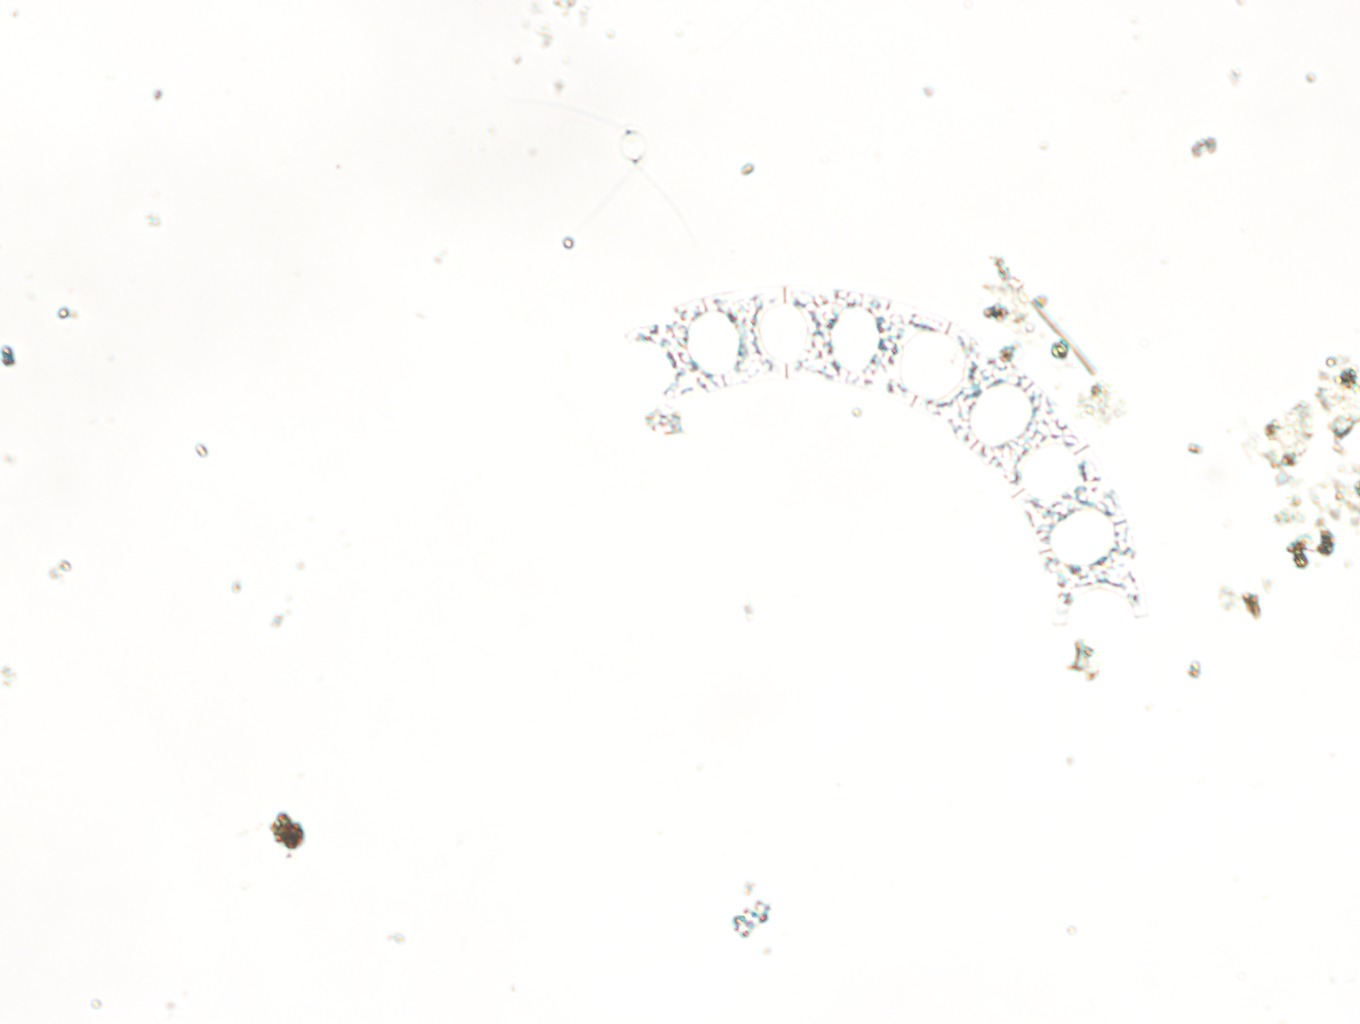chaetoceros: (532, 85, 708, 241)
eucampia: (624, 283, 1149, 631)
